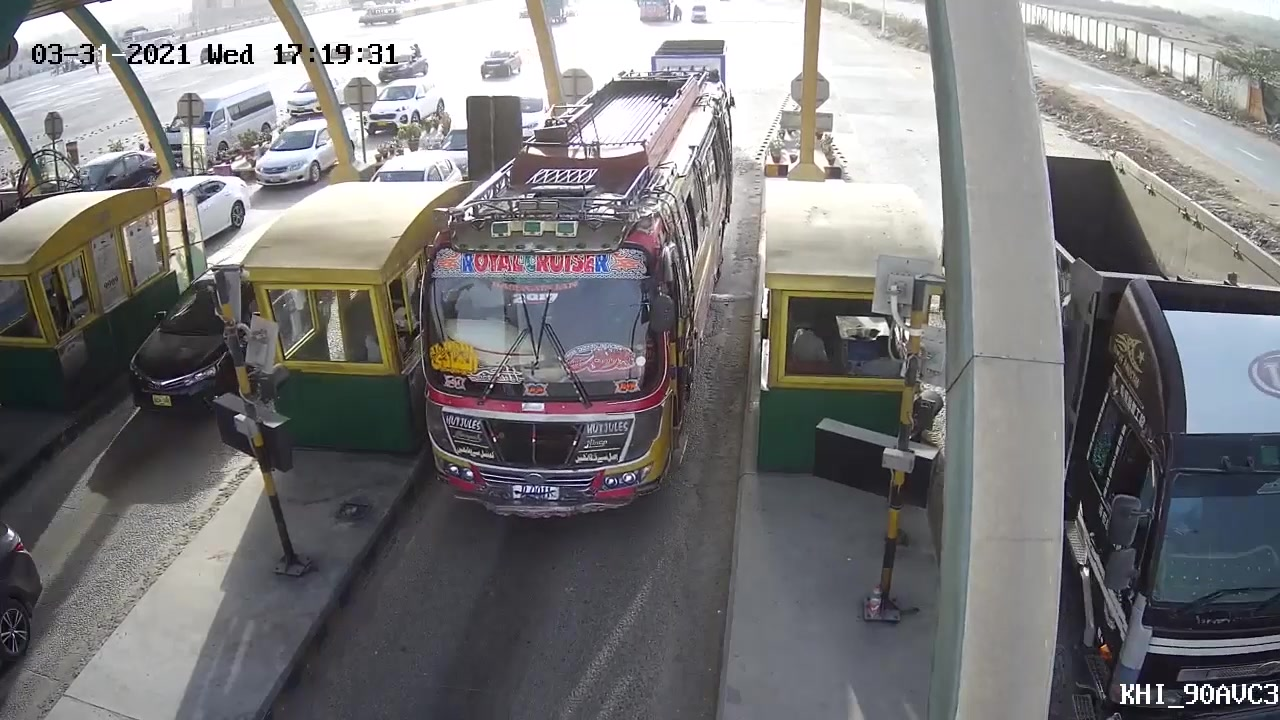F4: (398, 66, 740, 531)
